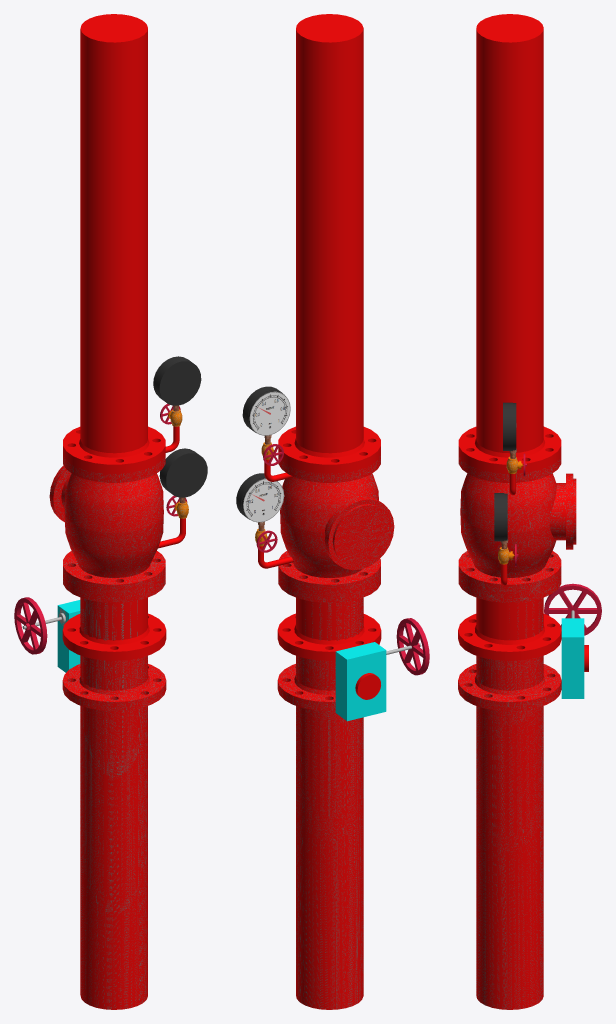
The model's file is FireHydrant.dae.
3 views of the same model, side by side, from view 1: azimuth 30°, elevation 25°; view 2: azimuth 210°, elevation 25°; view 3: azimuth 270°, elevation 25° (orthographic).
Parts seen in each view (by area): view 1: SketchUp (×13), valve1; view 2: SketchUp (×16), valve1; view 3: SketchUp (×14), valve1.
Part boxes in pixels (<box>): SketchUp (×13): <box>49,14,207,1009</box>; valve1: <box>14,597,47,654</box>; SketchUp (×16): <box>242,14,394,1009</box>; valve1: <box>396,618,429,675</box>; SketchUp (×14): <box>458,14,584,1009</box>; valve1: <box>544,583,601,635</box>.
Bounding box in the file's own units: 14.53 × 12.5 × 92.74.
11 materials, 2 textured.
